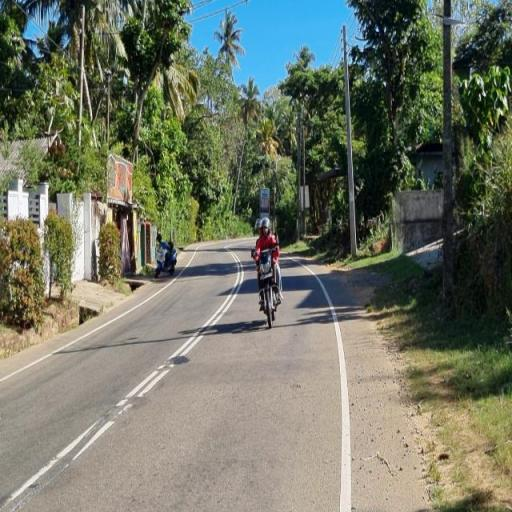double_white_line: (114, 251, 243, 415)
